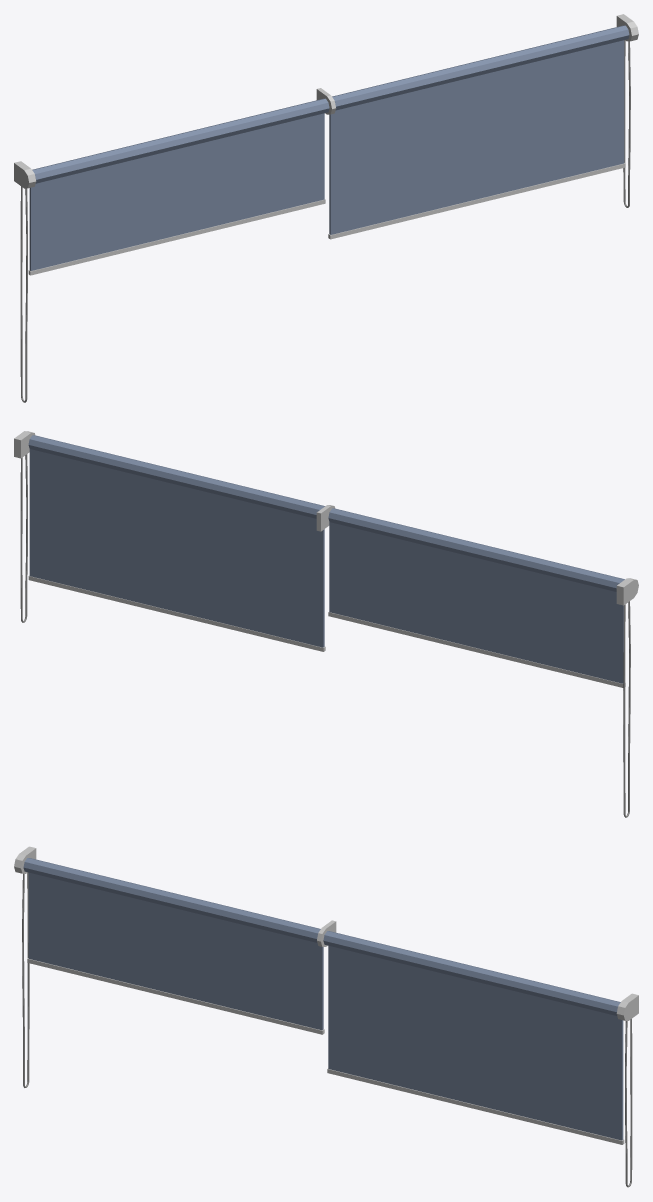
Rendered from Curtains6_C1.fbx.
The picture shows the model from 3 angles, top to bottom: view 1: azimuth 30°, elevation 25°; view 2: azimuth 150°, elevation 25°; view 3: azimuth 330°, elevation 25°; orthographic projection.
Parts seen in each view (by area): view 1: Curtains6_C1; view 2: Curtains6_C1; view 3: Curtains6_C1.
Part boxes in pixels (box(x1,y1,x2,y2)): Curtains6_C1: box(14, 14, 638, 402); Curtains6_C1: box(14, 431, 638, 817); Curtains6_C1: box(14, 846, 638, 1187).
Bounding box in the file's own units: 221 × 81.55 × 9.55.
